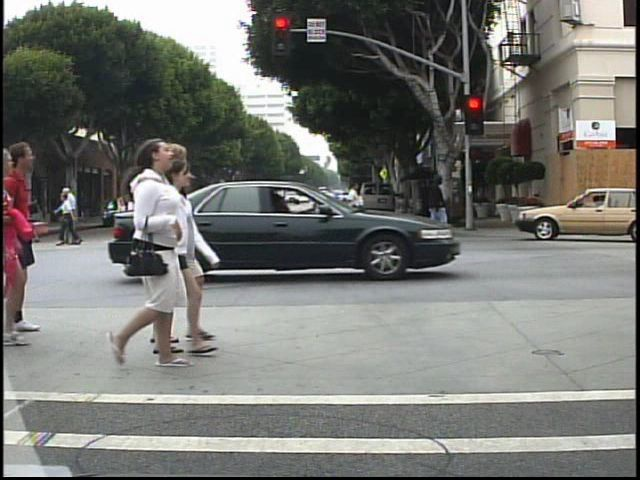person: (106, 139, 201, 379), (143, 157, 208, 367), (161, 145, 224, 351), (417, 168, 452, 240), (341, 177, 369, 241), (57, 191, 86, 246), (170, 186, 193, 249), (224, 182, 247, 240), (61, 183, 81, 247), (347, 187, 363, 223)
